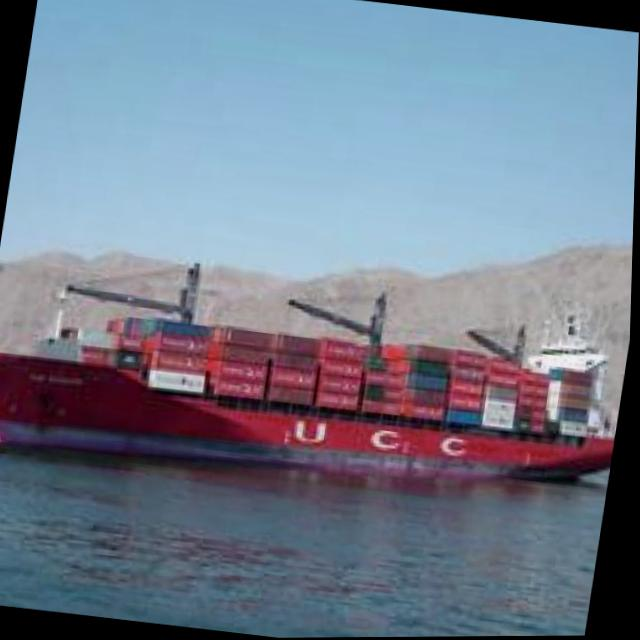ship2: (0, 254, 620, 491)
